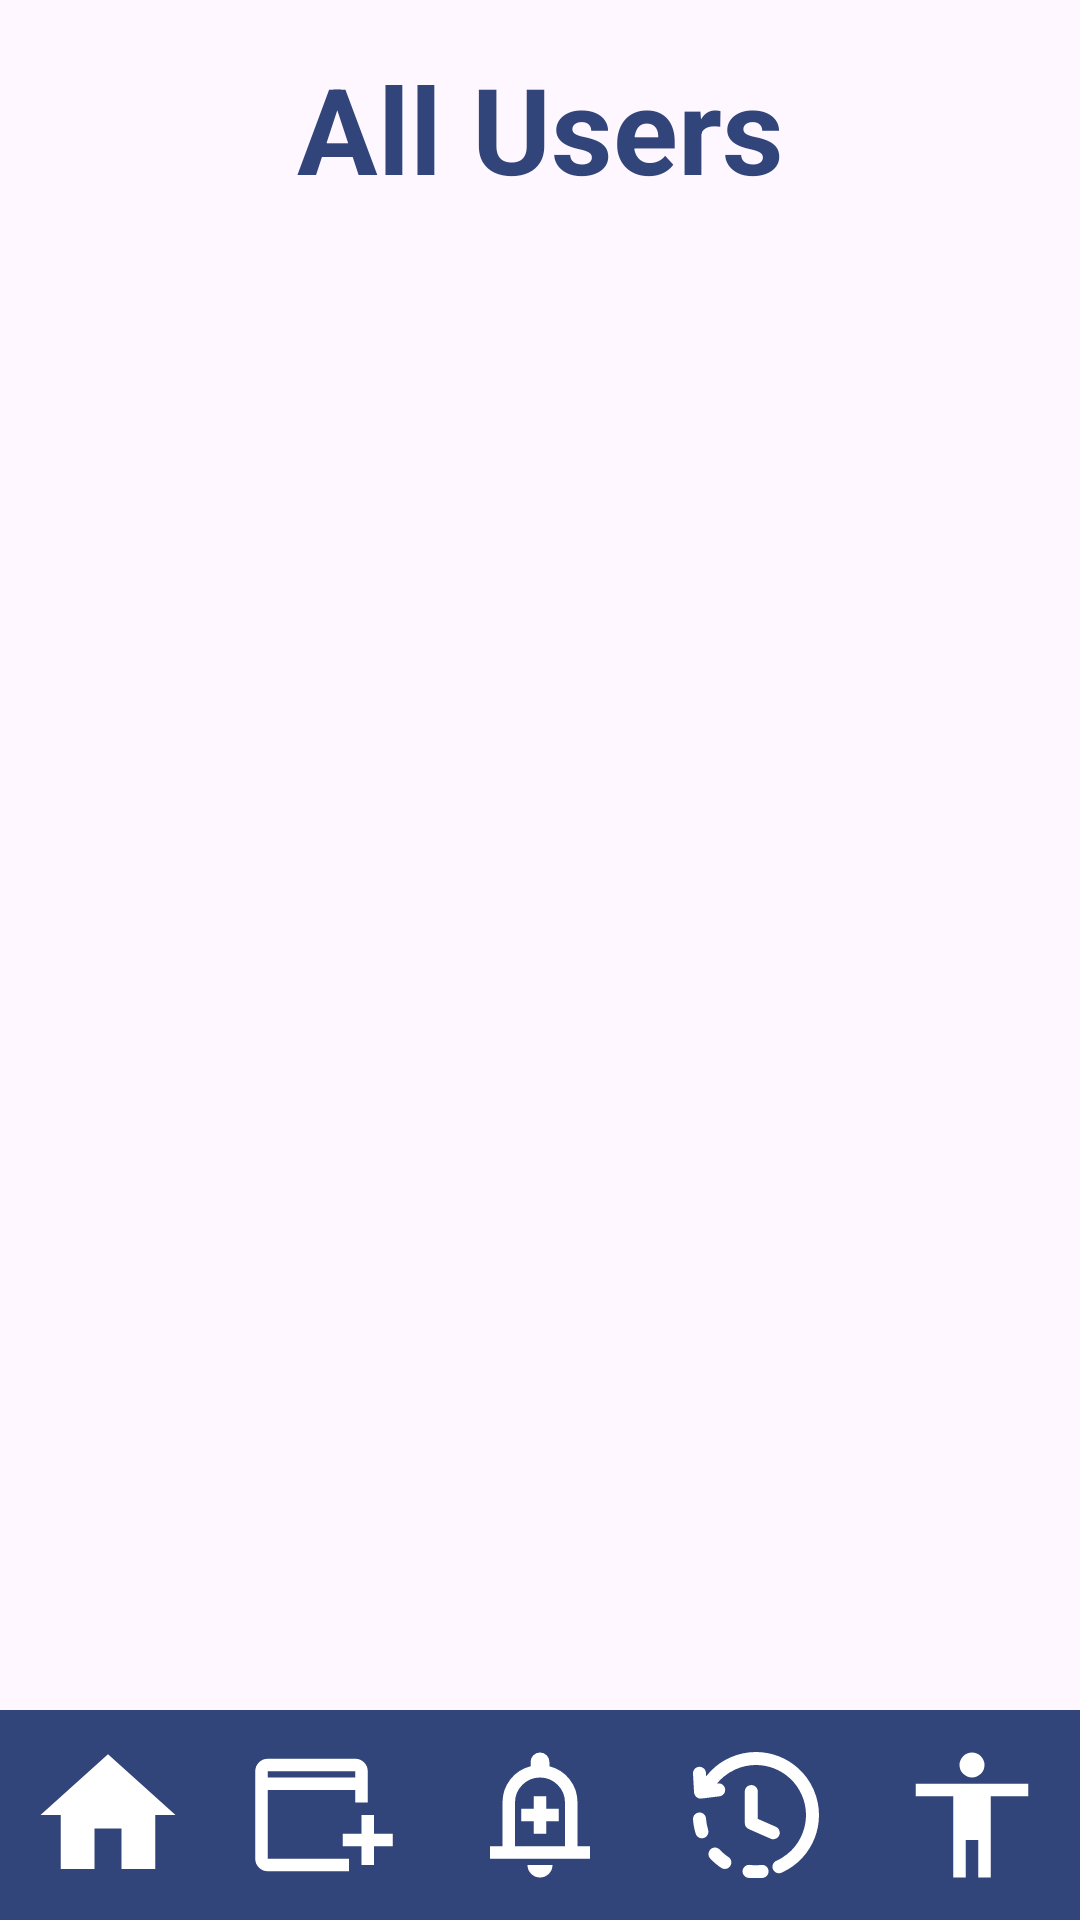

Screen size 1080x1920. Icon name, then its center in pixels as (x=x, y=y):
event: (x=324, y=1815)
history: (x=756, y=1815)
home: (x=108, y=1811)
notification: (x=540, y=1815)
profile: (x=972, y=1815)
